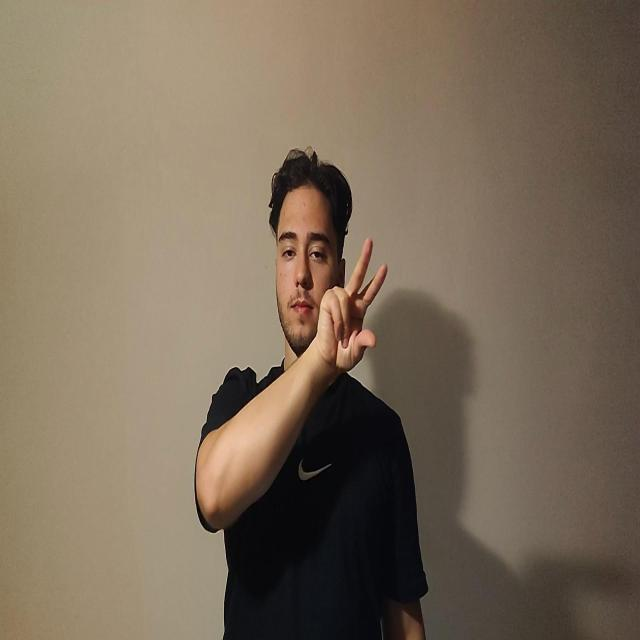no: (315, 236, 388, 377)
